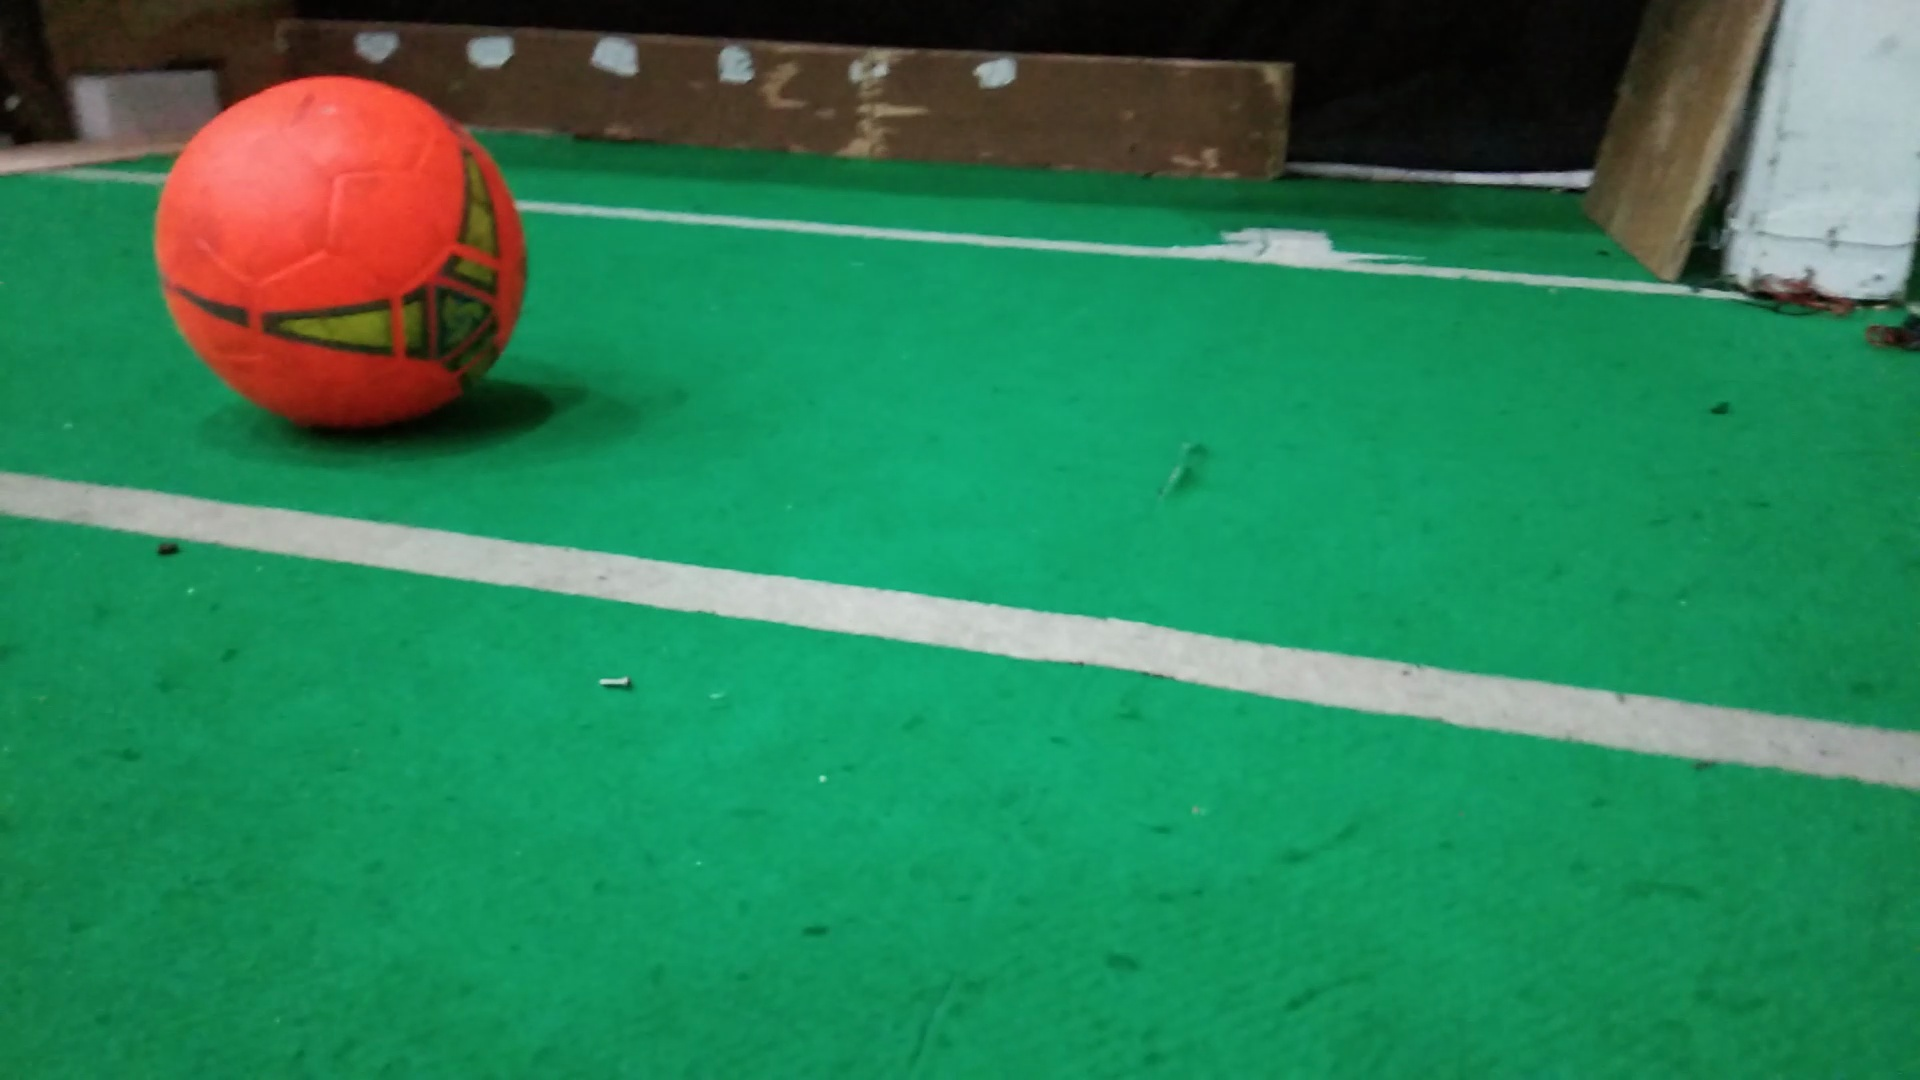bola: (146, 70, 545, 452)
